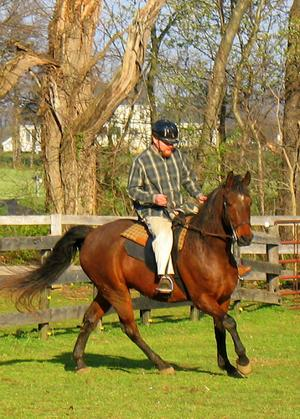person: (127, 120, 209, 297)
